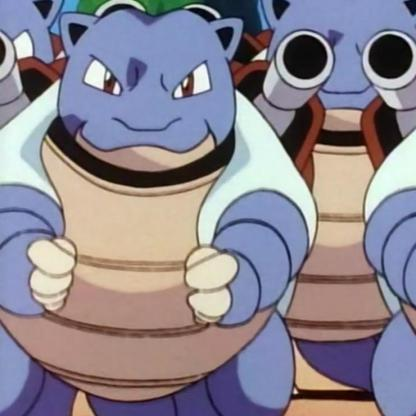Blastoise: (7, 1, 416, 416)
